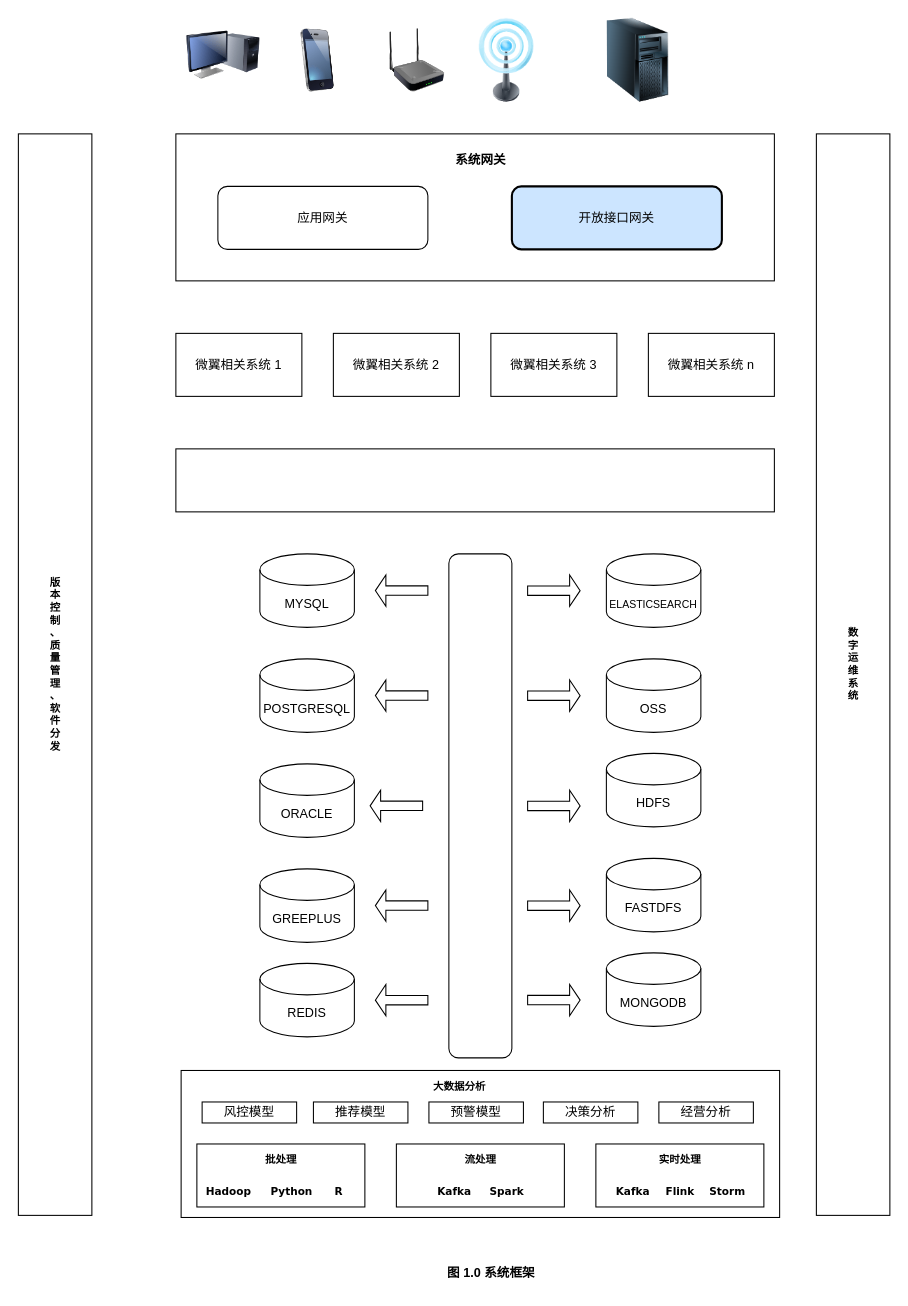
The diagram is 908 pixels wide and 1306 high, and some of its shapes have lost their labels. The centre of each missing label's shape, as x and y in pixels:
"公共基础设施" goes at pixel 474 480.
"数 据 总 线" goes at pixel 480 805.
